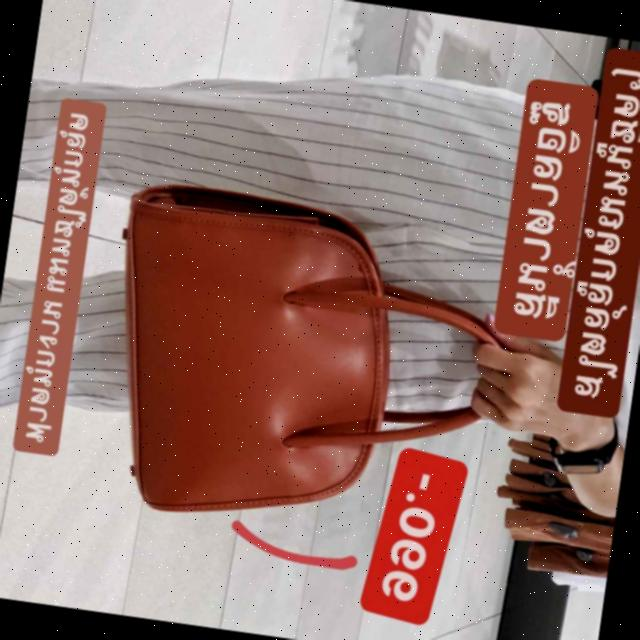Handbag: (87, 178, 428, 544)
